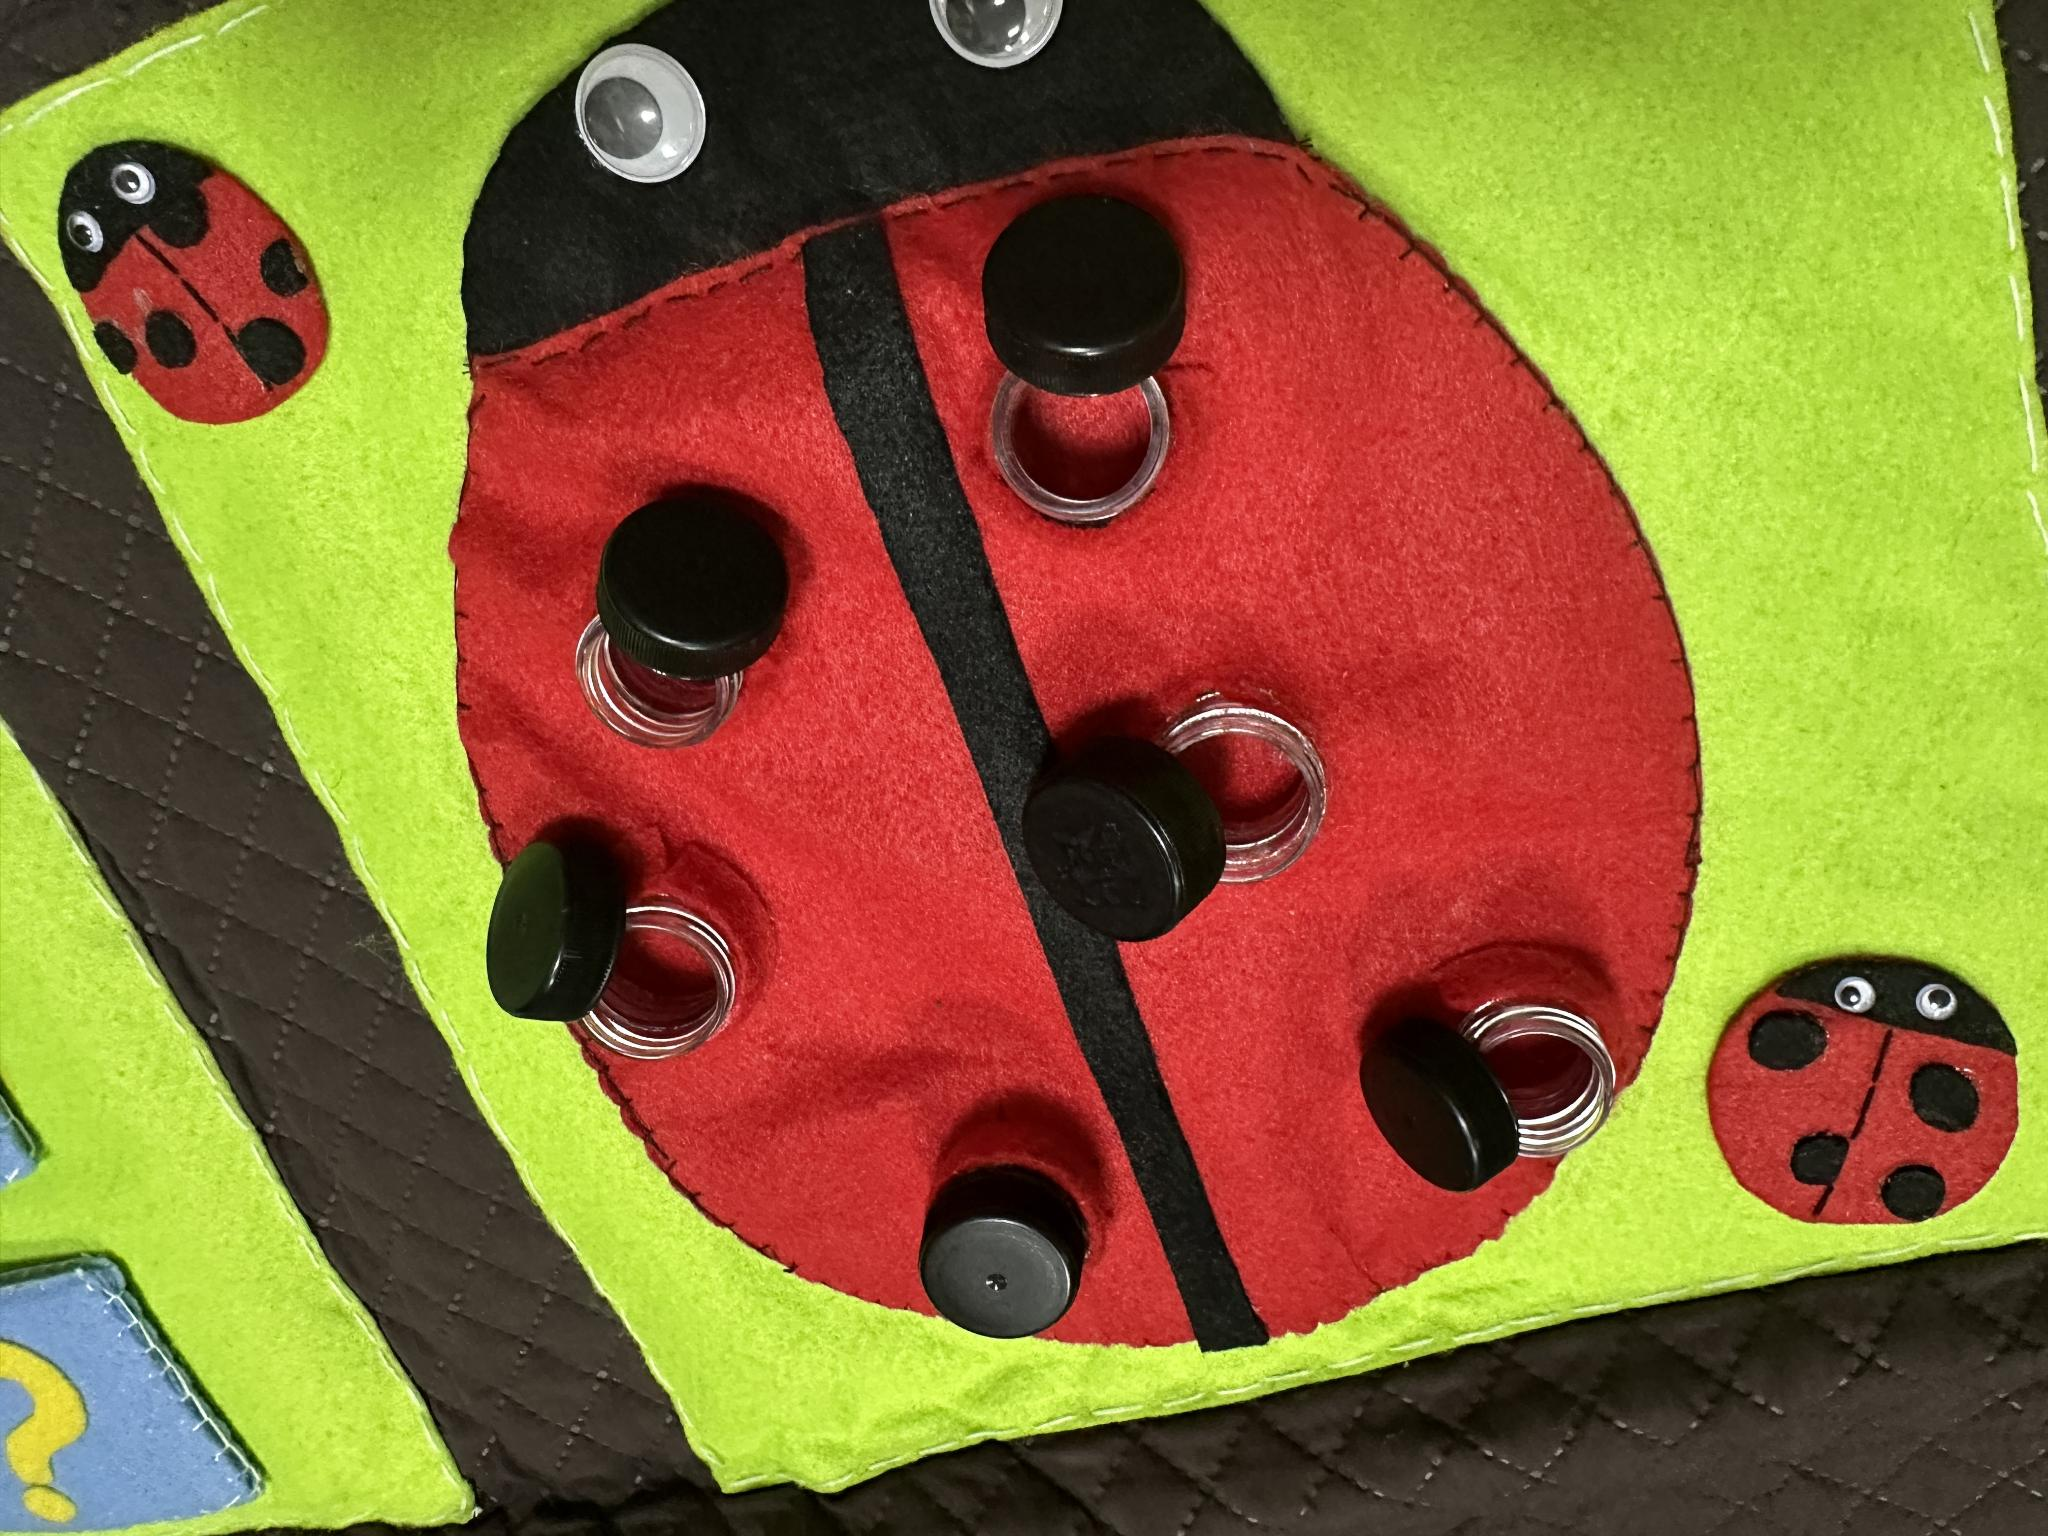cap_ng: (1003, 660, 1330, 984), (948, 177, 1238, 542), (464, 816, 780, 1096), (1351, 902, 1629, 1212), (552, 481, 821, 762)
cap_ok: (897, 1113, 1130, 1354)
